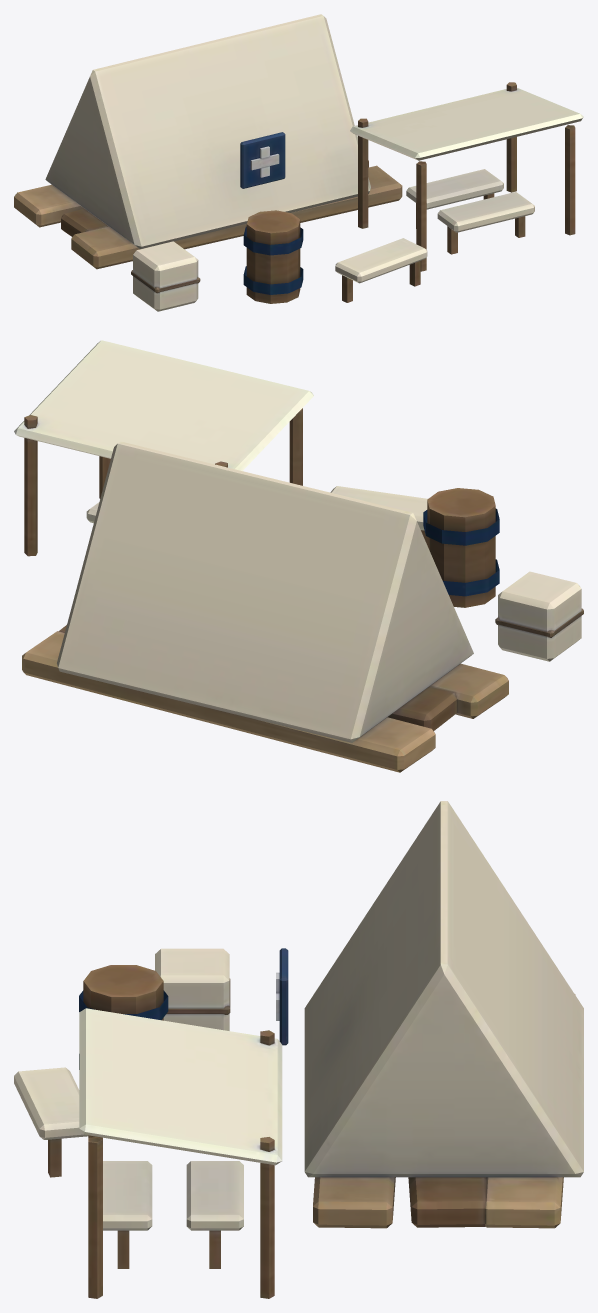
The model's file is infirmary-1.glb.
3 views of the same model, one above another, from view 1: azimuth 30°, elevation 25°; view 2: azimuth 150°, elevation 25°; view 3: azimuth 270°, elevation 25° (orthographic). The views are drawn at different scales.
Visible parts, largest first — view 1: infirmary-1; view 2: infirmary-1; view 3: infirmary-1.
Part boxes in pixels (box(x1,y1,x2,y2)): infirmary-1: box(14, 14, 583, 311); infirmary-1: box(14, 340, 583, 772); infirmary-1: box(14, 801, 583, 1298).
Size of the model in its own units: 1.2 by 0.4597 by 0.9951.
Materials: 1 (1 with a texture image).
